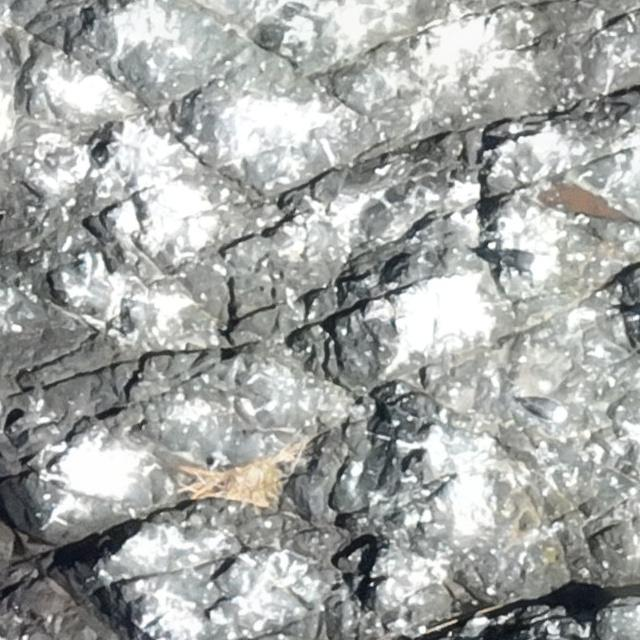umineko: (501, 245, 551, 279), (522, 392, 570, 422)
